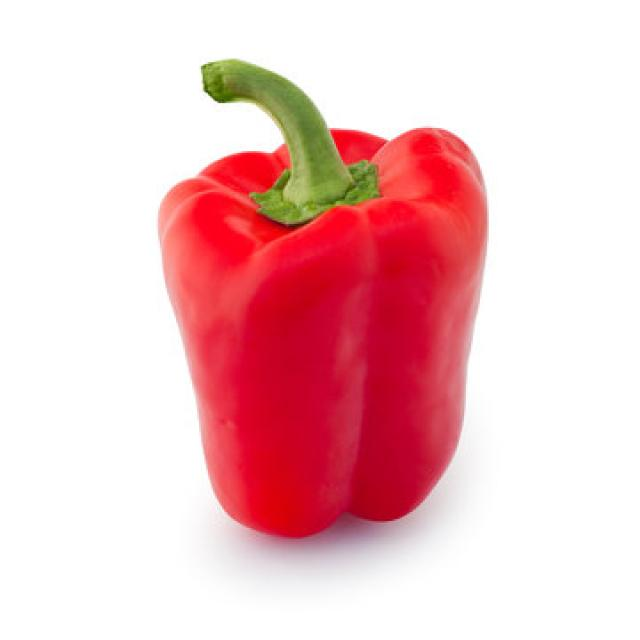Bell Pepper: (155, 57, 489, 539)
